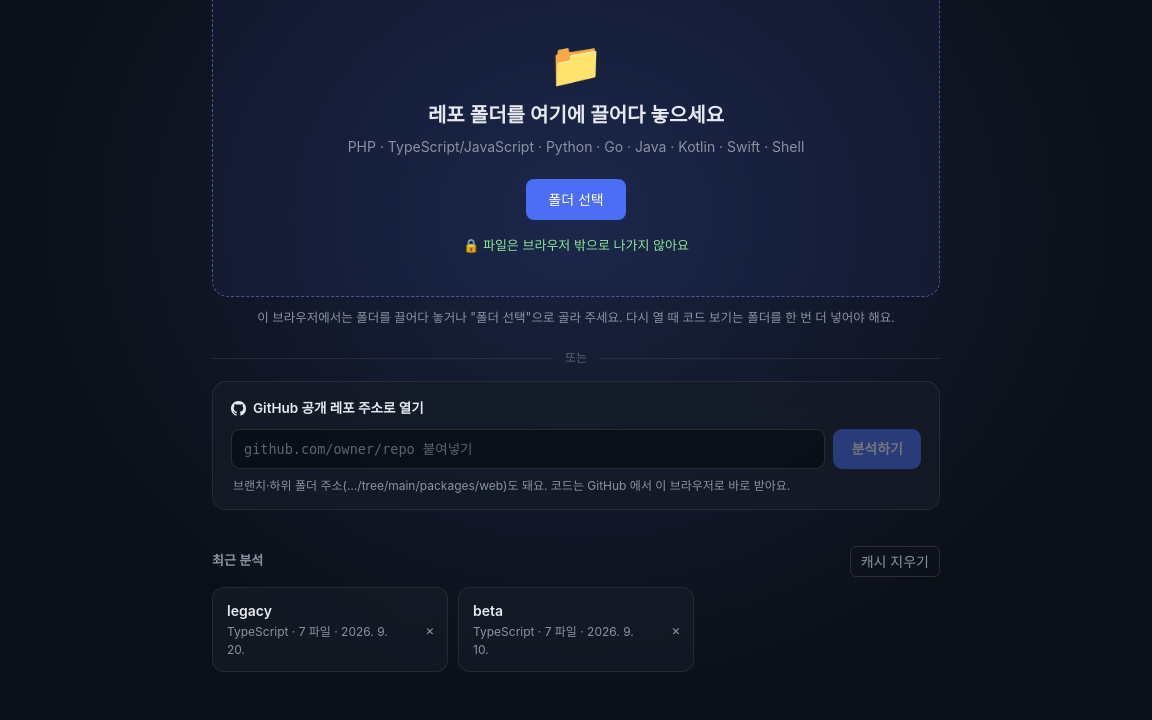
Test: an old cached entry without battle data still opens, and the tab says how to get it
(page scrolled)
Click the button "legacy TypeScript · 7 파일 · 2026. 9. 20.".
click(313, 629)  # box [213, 588, 413, 670]
(page scrolled)
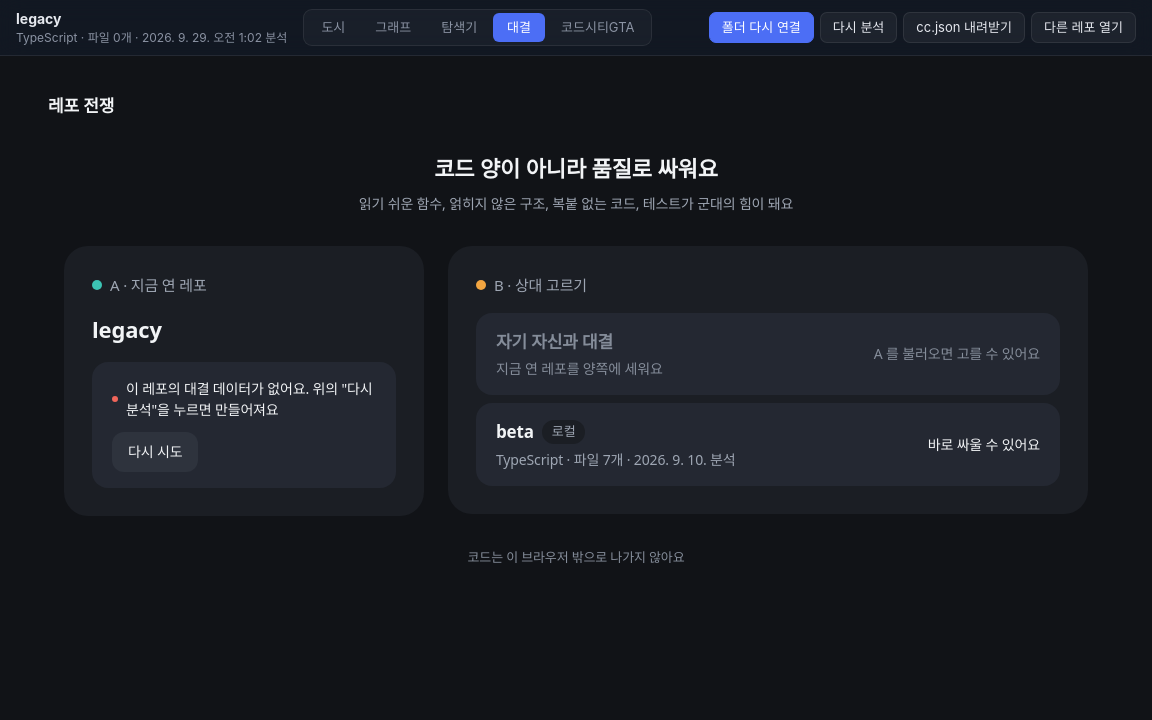
Check: the heading "레포 전쟁" is shown, box [48, 93, 114, 119]
Check: the text "legacy" below "A · 지금 연 레포" is shown, box [92, 314, 162, 344]
Check: the message "이 레포의 대결 데이터가 없어요. 위의 \"다시 분석\"을 누르면 만들어져요 다시 시도" is shown, box [92, 362, 396, 488]
